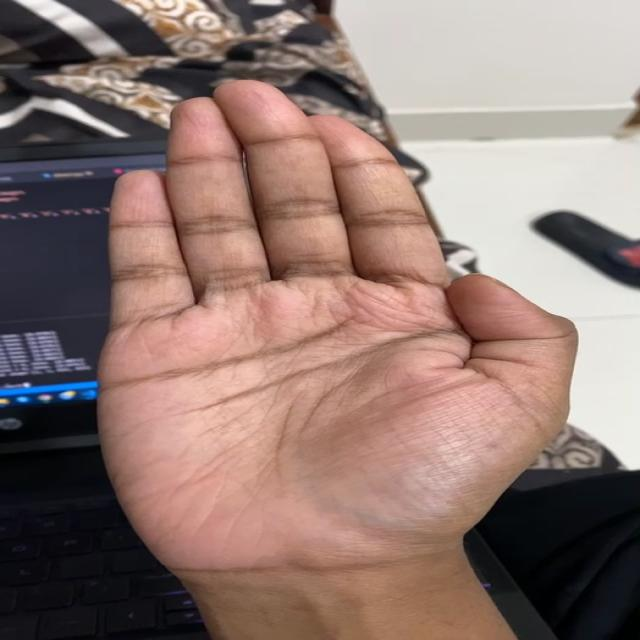no-gloves: (94, 68, 587, 579)
